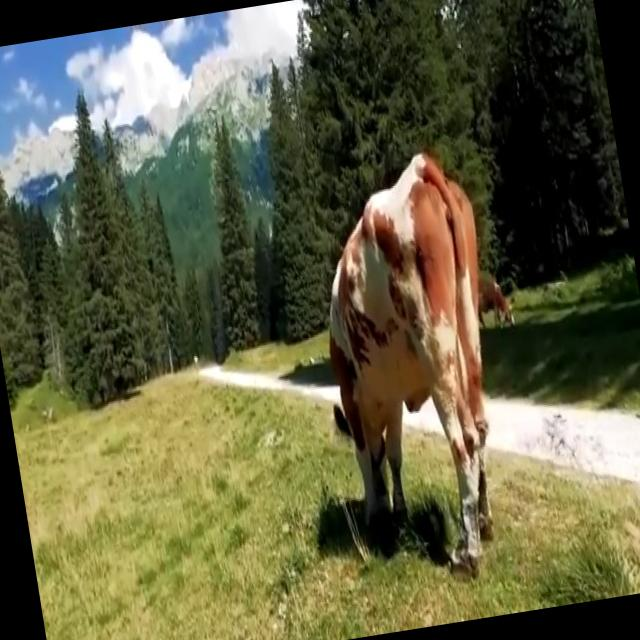cow: (330, 153, 492, 574)
